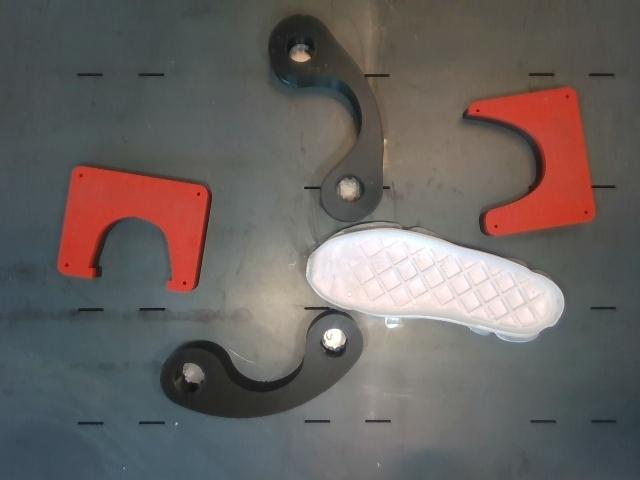shoes: (309, 232, 562, 334)
